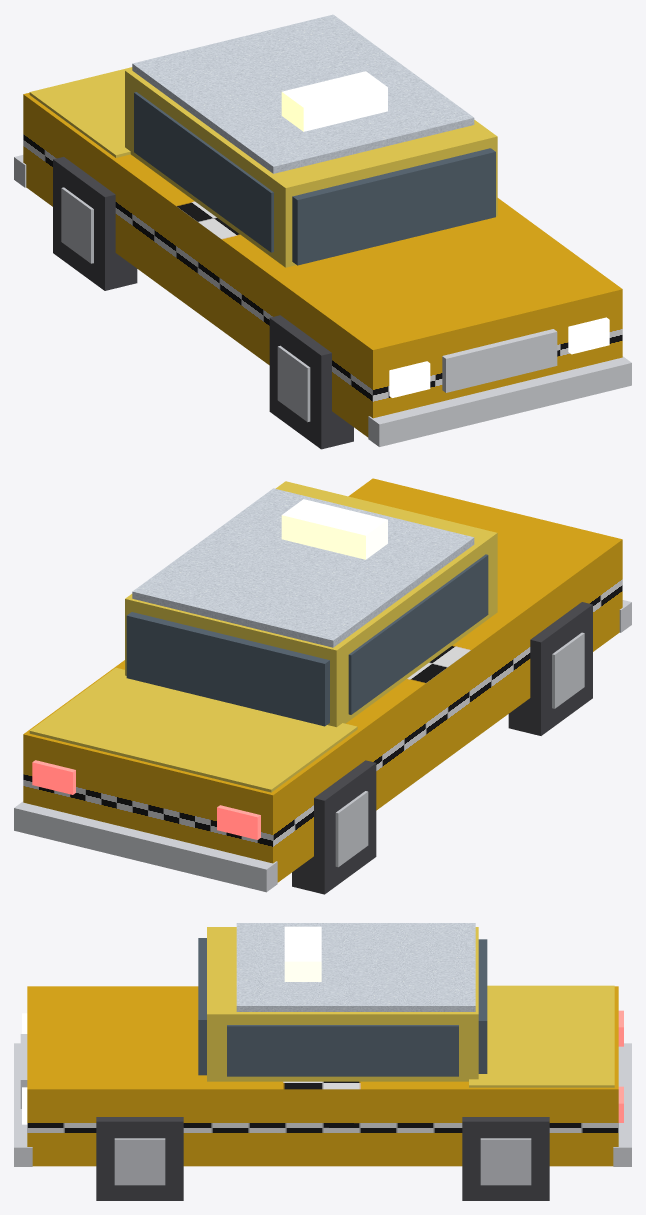
The model's file is nyc_taxi_cab.glb.
The picture shows the model from 3 angles, top to bottom: view 1: azimuth 30°, elevation 25°; view 2: azimuth 150°, elevation 25°; view 3: azimuth 270°, elevation 25°; orthographic projection. The views are drawn at different scales.
Visible parts, largest first — view 1: nyc_taxi_cab.glb; view 2: nyc_taxi_cab.glb; view 3: nyc_taxi_cab.glb.
Boxes of the visible parts, x1,y1,x2,y2 form: nyc_taxi_cab.glb: (14,14,631,449); nyc_taxi_cab.glb: (14,478,631,894); nyc_taxi_cab.glb: (14,923,631,1200).
Bounding box in the file's own units: 2.04 × 1.67 × 4.66.
Materials: 10 (2 with a texture image).
